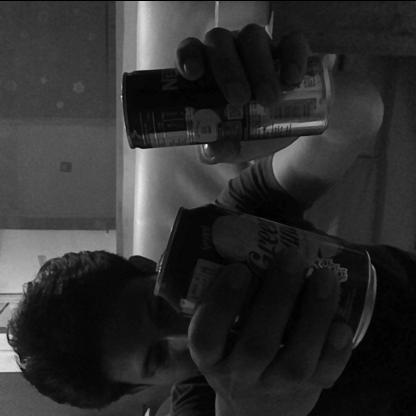alumunium_can: (152, 201, 378, 351), (121, 51, 332, 147)
